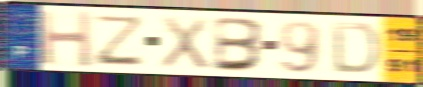9: (277, 19, 328, 75)
B: (211, 15, 268, 73)
D: (330, 20, 382, 77)
H: (37, 8, 95, 69)
X: (159, 14, 211, 72)
Z: (93, 13, 147, 67)
